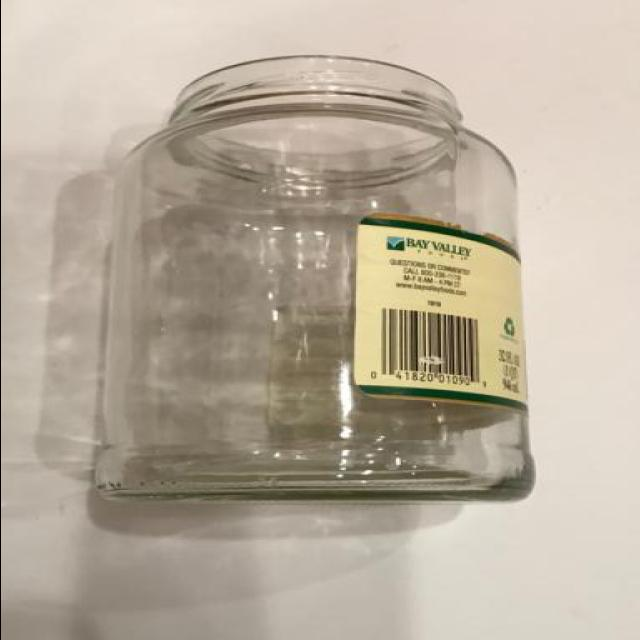Glass Bottle: (89, 55, 536, 505)
